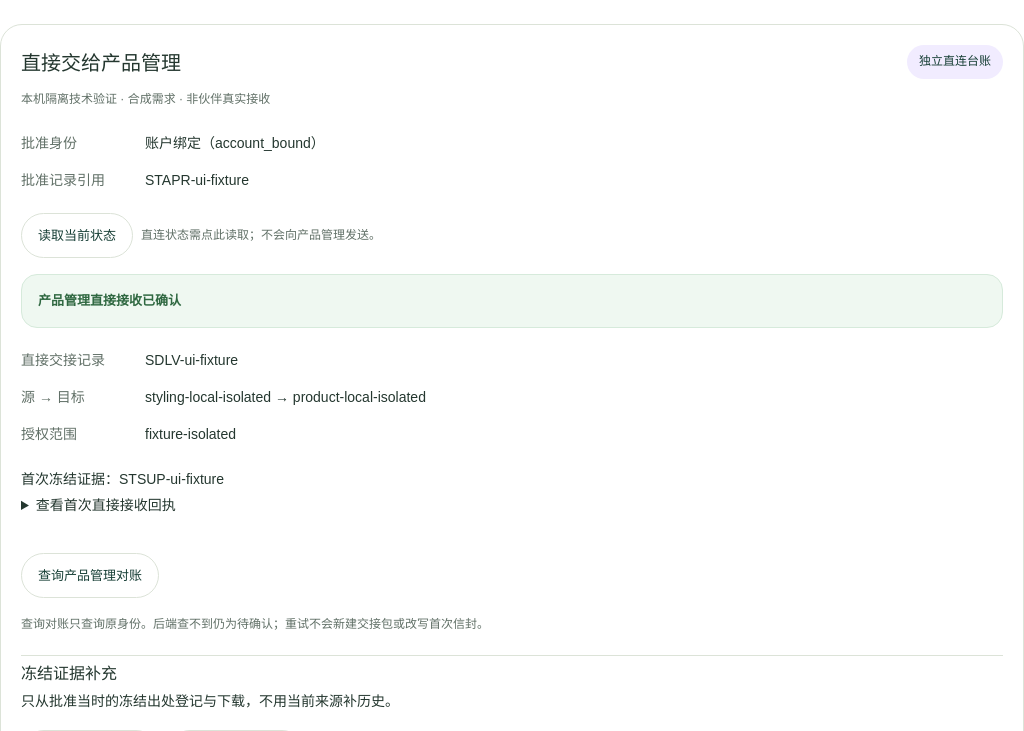
Test case: direct management panel › an invalid fresh receipt clears old success instead of continuing to claim confirmation
Check: the text "产品管理直接接收已确认" is shown, box [38,293,181,308]
What coordinates should you click on to do the following:
click the button "读取当前状态"
I would click on:
 (77, 236)
Its box is [21,213,133,258].
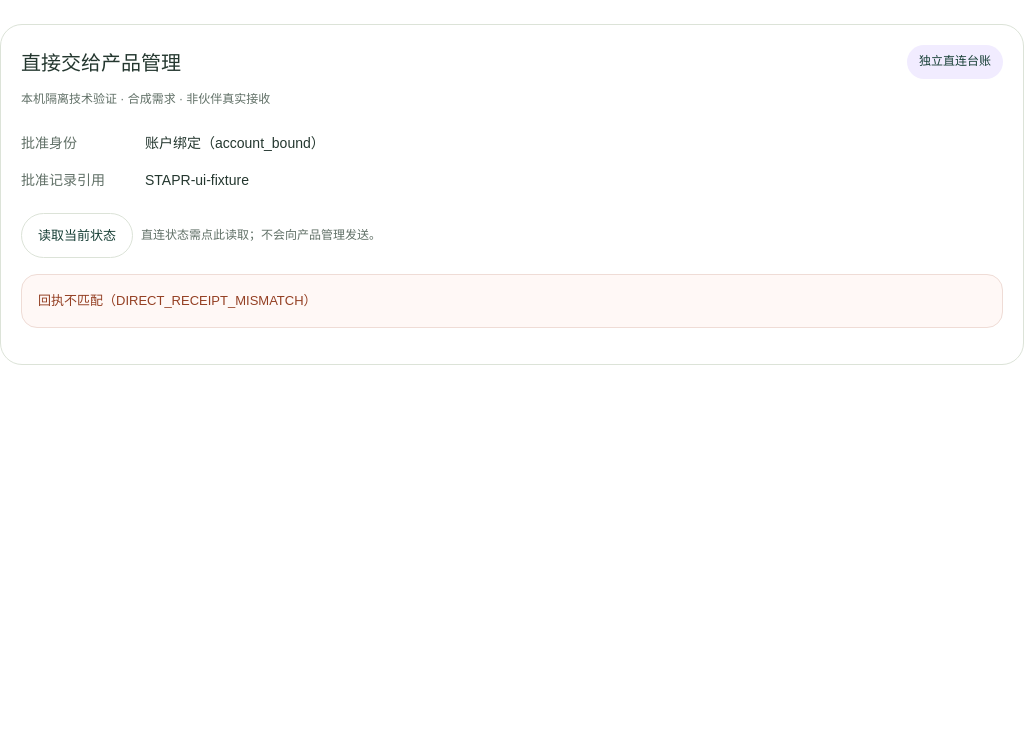
Check: the message "回执不匹配（DIRECT_RECEIPT_MISMATCH）" is shown, box [21,274,1003,328]
Check: the text "产品管理直接接收已确认" is gone
